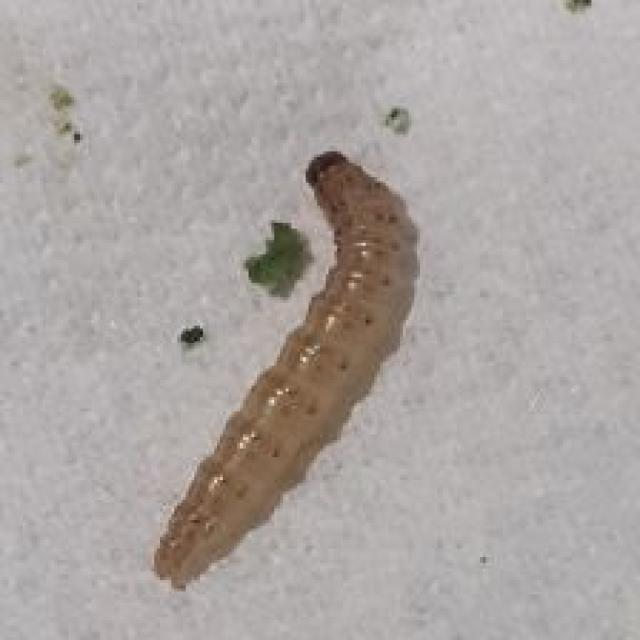white mucus: (137, 124, 441, 588)
